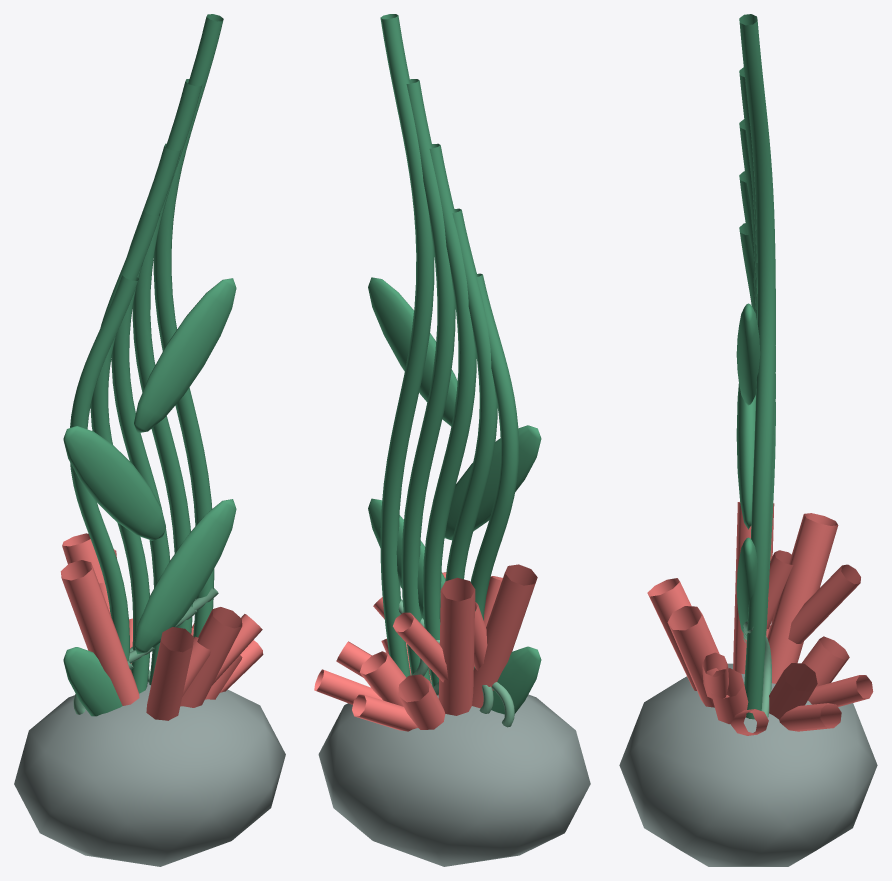
The model's file is environment-0.glb.
3 renders of one model, left to right at view 1: azimuth 30°, elevation 25°; view 2: azimuth 150°, elevation 25°; view 3: azimuth 270°, elevation 25°, orthographic. The views are drawn at different scales.
Parts seen in each view (by area): view 1: kelp_0, rock_0, coral_0, grass_0; view 2: kelp_0, rock_0, coral_0, grass_0; view 3: rock_0, coral_0, kelp_0, grass_0.
Boxes of the visible parts, box(x1,y1,x2,y2) form: kelp_0: box(63, 14, 236, 716); rock_0: box(14, 682, 285, 866); coral_0: box(60, 533, 263, 720); grass_0: box(73, 588, 218, 714); kelp_0: box(368, 14, 541, 714); rock_0: box(318, 682, 590, 866); coral_0: box(314, 564, 537, 731); grass_0: box(398, 599, 514, 727); rock_0: box(619, 663, 877, 866); coral_0: box(647, 502, 873, 735); kelp_0: box(736, 14, 775, 719); grass_0: box(743, 621, 771, 717).
Bounding box in the file's own units: 1.33 × 4.46 × 1.2.
